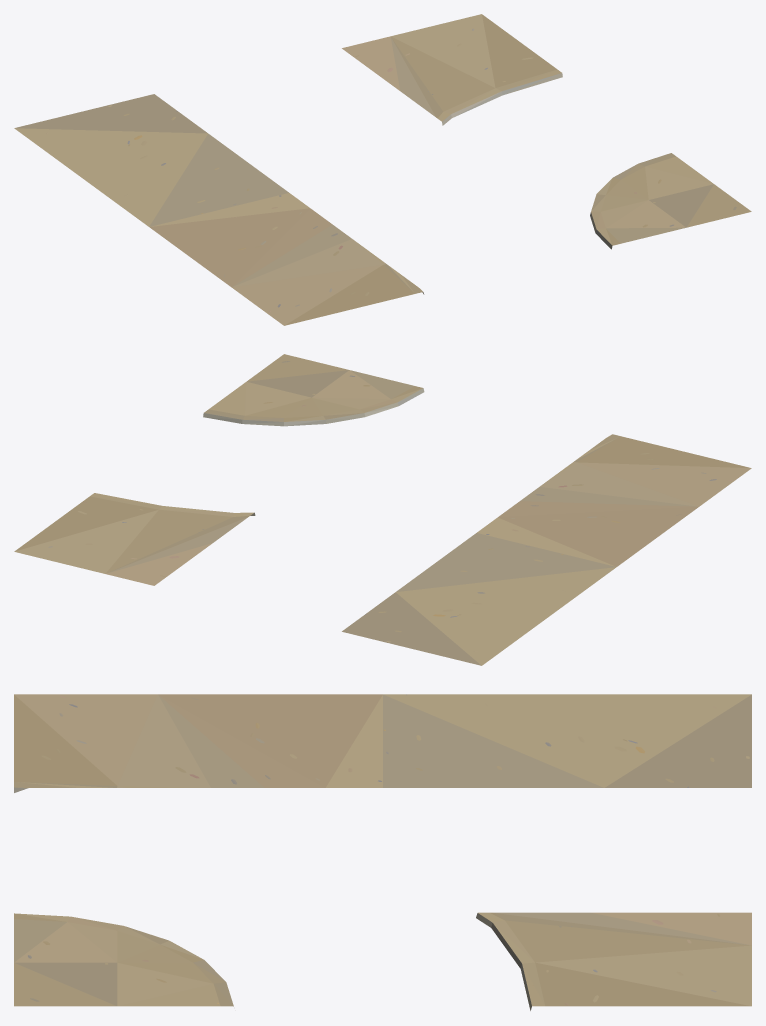
File: HK_RoadRaised_Honmachi.lod.glb
3 views of the same model, one above another, from view 1: azimuth 30°, elevation 25°; view 2: azimuth 150°, elevation 25°; view 3: azimuth 270°, elevation 25° (orthographic). The views are drawn at different scales.
Parts seen in each view (by area): view 1: HK_RoadRaised_Honmachi; view 2: HK_RoadRaised_Honmachi; view 3: HK_RoadRaised_Honmachi.
Boxes of the visible parts, x1,y1,x2,y2 form: HK_RoadRaised_Honmachi: (14, 14, 751, 325); HK_RoadRaised_Honmachi: (14, 354, 751, 665); HK_RoadRaised_Honmachi: (14, 694, 751, 1010).
Bounding box in the file's own units: 20 × 0.1627 × 20.
